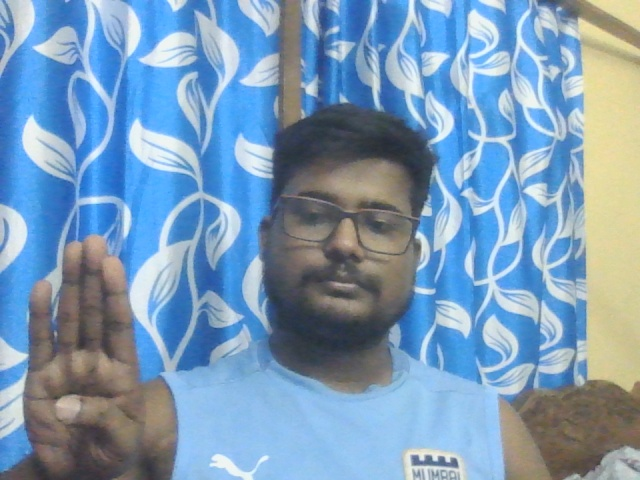B: (23, 236, 144, 473)
